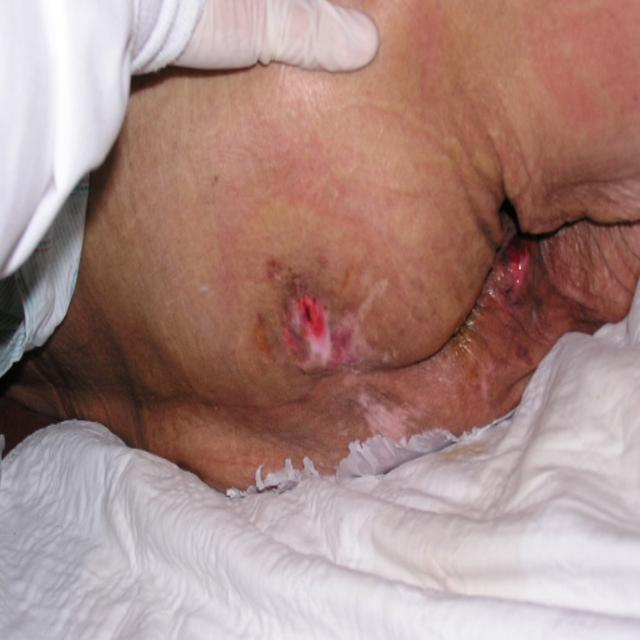stage-2: (298, 297, 329, 339)
